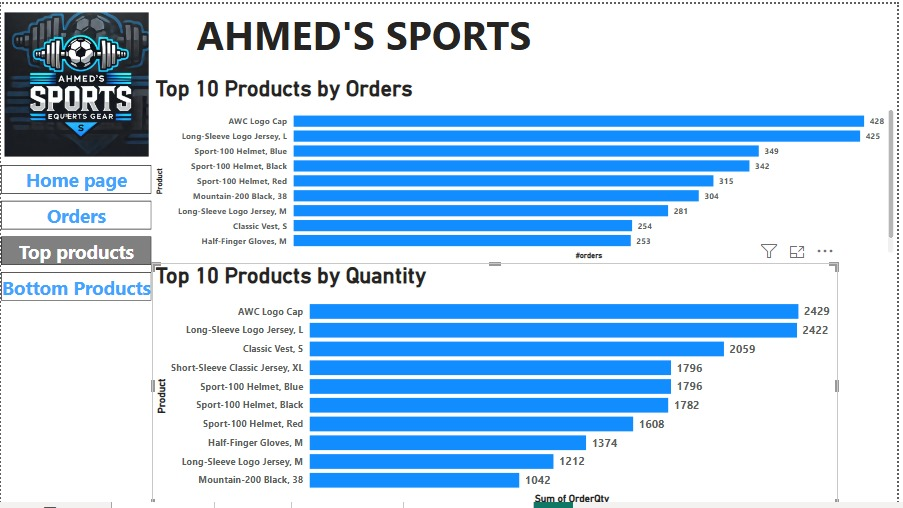

Layout of this report page (visuals, bound fields, positions):
{"tool":"powerbi","page":{"name":"Top products","canvas":[1280,720],"ordinal":2},"visuals":[{"type":"image","box":[0,0,215.7,230],"z":0},{"type":"textbox","box":[273.8,0,527.5,92.5],"z":1000},{"type":"pageNavigator","box":[0,230,215.6,196.7],"z":2000},{"type":"clusteredBarChart","title":"Top 10 Products by Orders","fields":{"Y":["Dax measures.#orders"],"Category":["Dim products.Product"]},"box":[215.6,103.3,1064.4,266.7],"z":3000},{"type":"clusteredBarChart","title":"Top 10 Products by Quantity","fields":{"Y":["Sum(fact orders.OrderQty)"],"Category":["Dim products.Product"]},"box":[215.6,370,980,350],"z":4000}]}

Visuals, with their boxes on the page's 1280x720 design canvas (x1, y1, x2, y2). These are canvas units, not pixel positions in the 903x508 screenshot, which may show the page scaled, cropped or inside an application window:
image: <bbox>0, 0, 216, 230</bbox>
textbox: <bbox>274, 0, 801, 92</bbox>
pageNavigator: <bbox>0, 230, 216, 427</bbox>
"Top 10 Products by Orders" clusteredBarChart: <bbox>216, 103, 1280, 370</bbox>
"Top 10 Products by Quantity" clusteredBarChart: <bbox>216, 370, 1196, 720</bbox>
